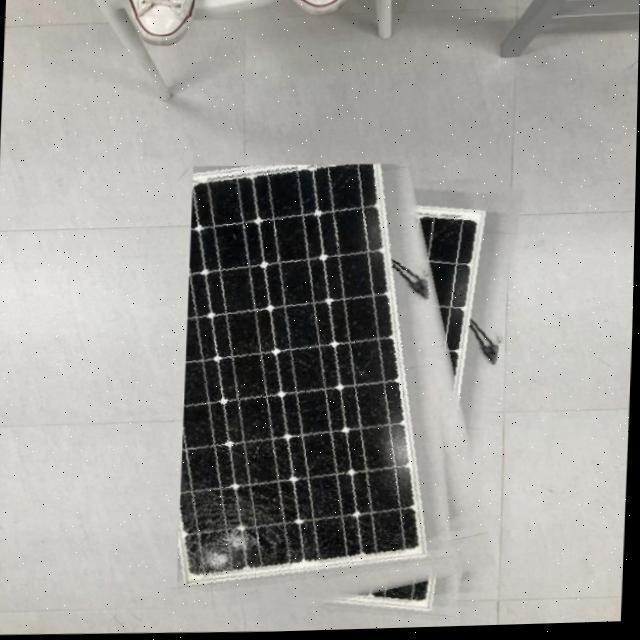Structural Damage: (185, 490, 271, 588)
